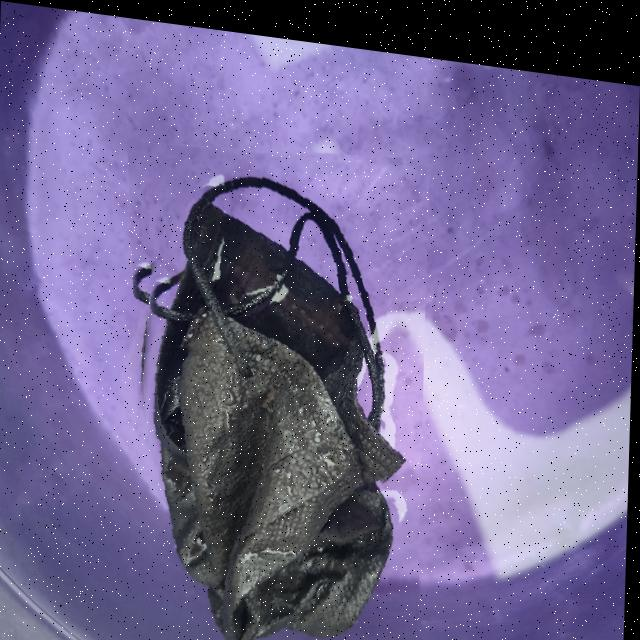mask: (124, 123, 429, 640)
